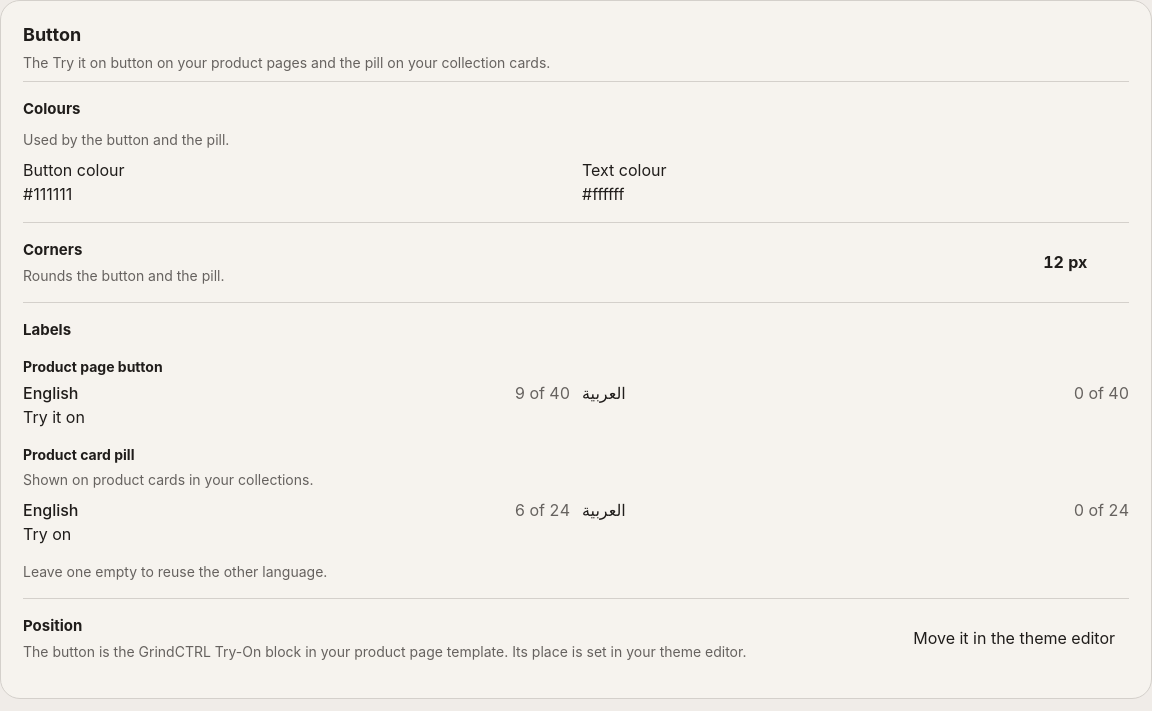
Test: V16TryOnStudio › needs the English labels before it saves
This screenshot has width=1152, height=711.
Clear the field labelled "English 9 of 40": [147, 416] box 23,404 -> 271,428
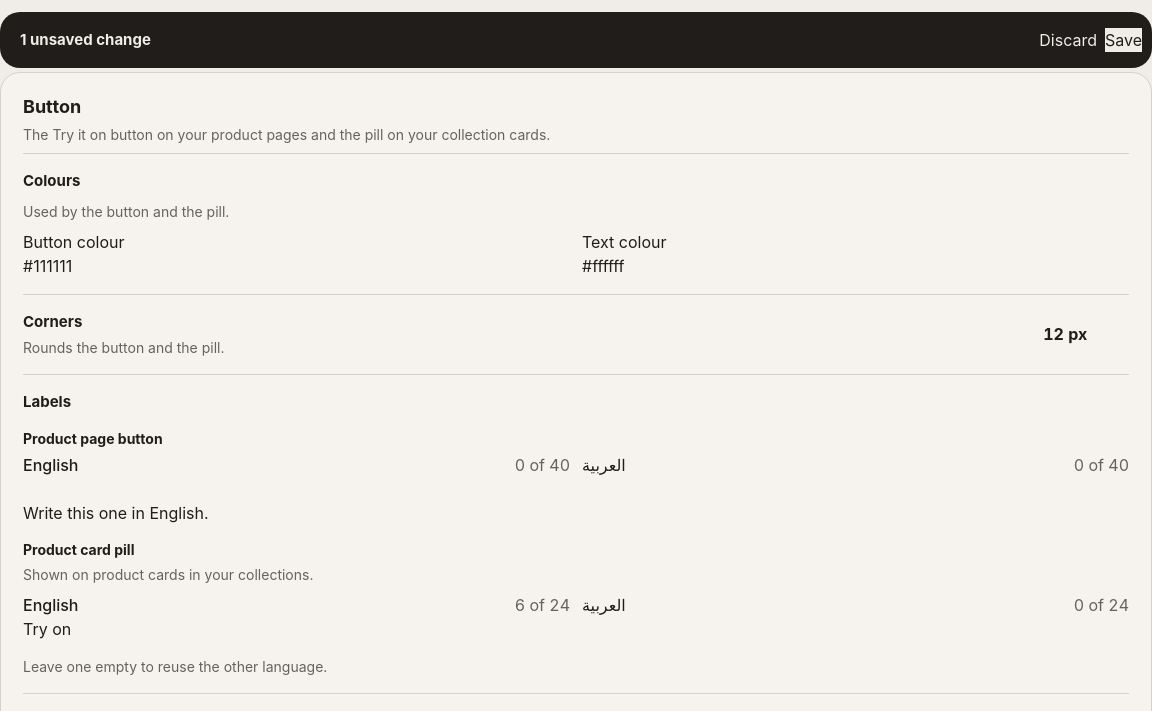
Check: the text "Write this one in English." is shown, box 23,502 -> 208,522
Check: the button "Save" is disabled, box 1105,28 -> 1142,52
